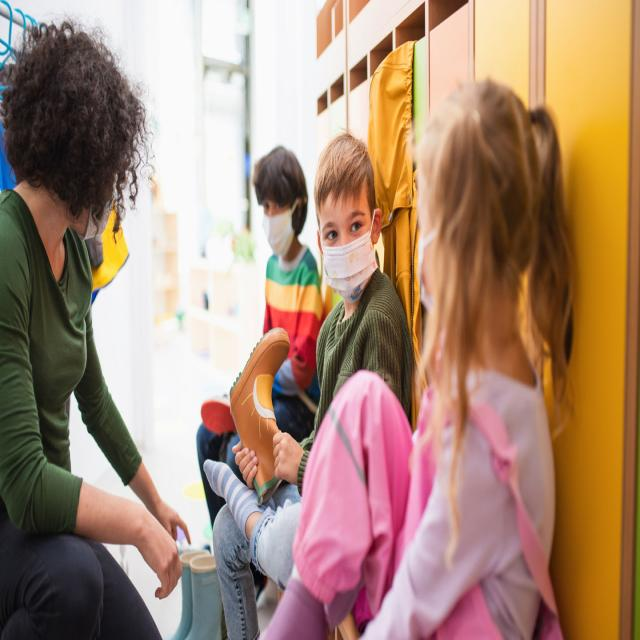adult: (0, 14, 190, 640)
child: (285, 78, 567, 640), (201, 134, 411, 640), (196, 146, 324, 528)
